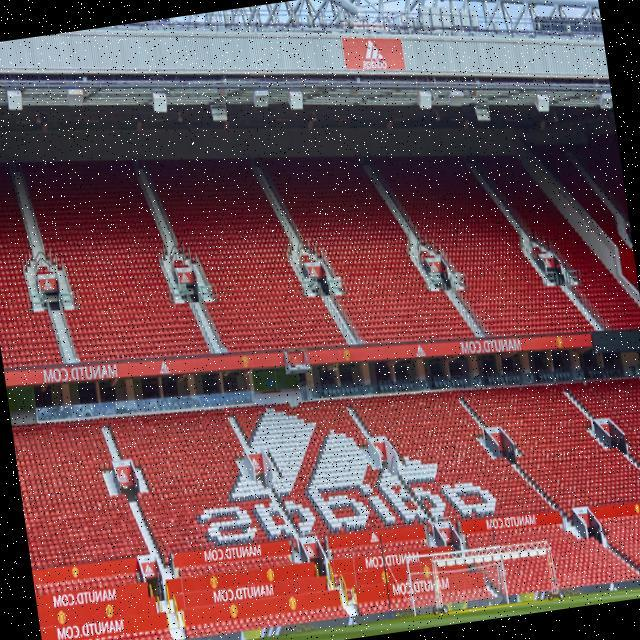Adidas: (181, 374, 499, 556), (356, 33, 389, 76)
